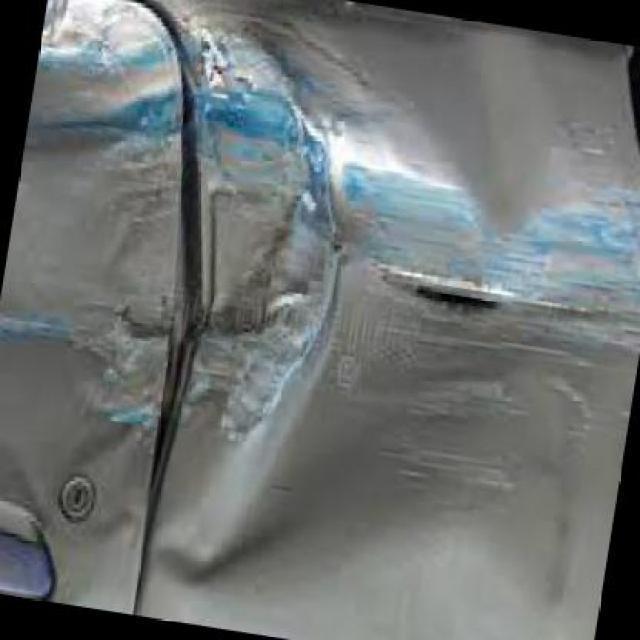dent: (180, 91, 345, 558)
